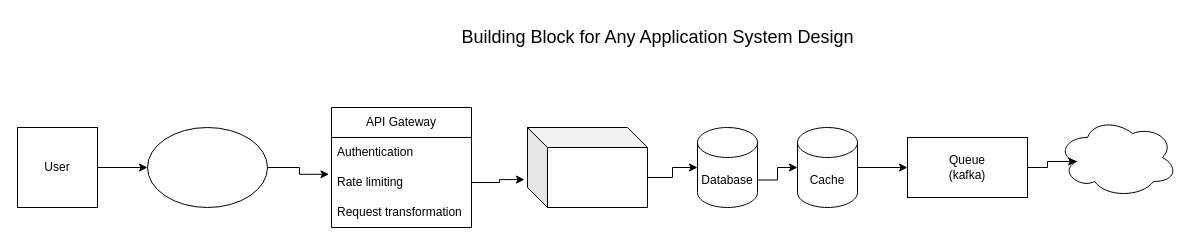
The diagram is 1195 pixels wide and 245 high, and some of its shapes have lost their labels. The box of each missing label's shape, as (x1, y1, x2, y2) in pixels:
CDN: (1056, 116, 1178, 198)
Load Balancer: (146, 126, 268, 208)
Microservice: (526, 126, 648, 208)
